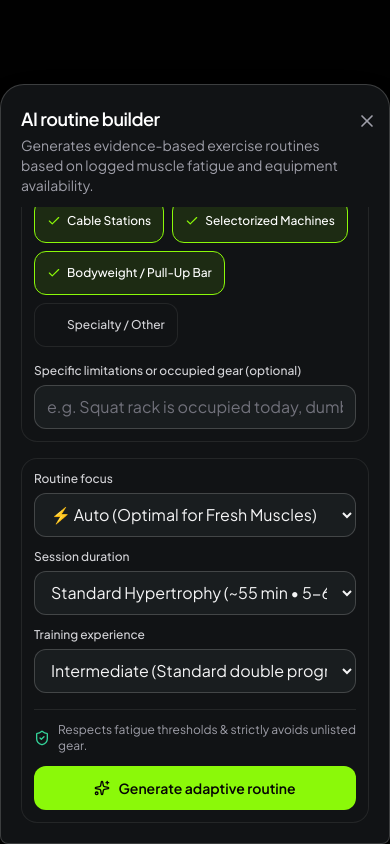
AiRoutineBuilderModal › saves the routine to plans and reports it
This screenshot has width=390, height=844.
(page scrolled)
Click the button "Generate adaptive routine" at (195, 788), box [34,766,356,810]
(page scrolled)
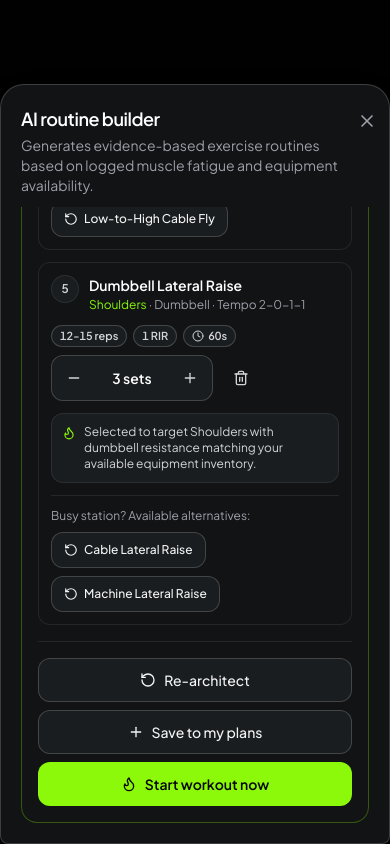
Click the button "Save to my plans" at (195, 732), box [38,710,352,754]
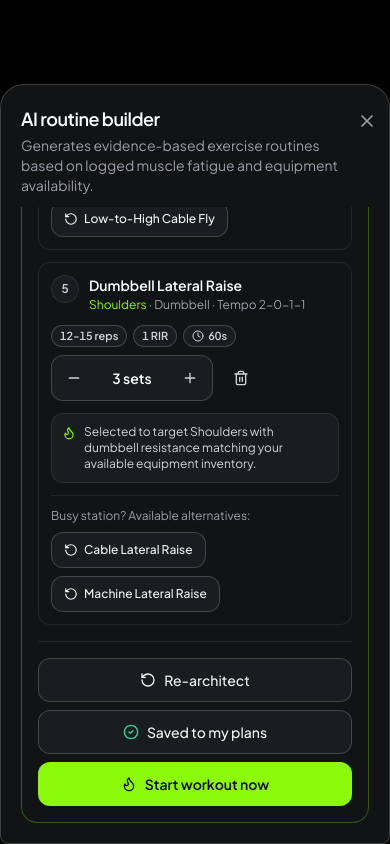
Now the text "Saved to my plans" is shown, box [38,710,352,754]
